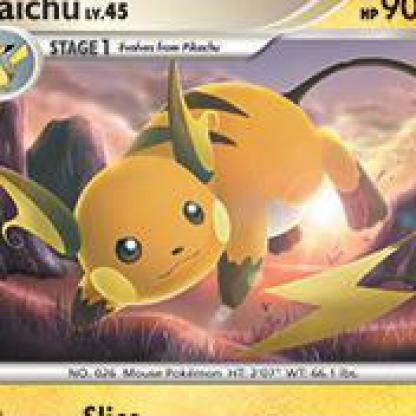Raichu: (1, 18, 415, 415)
